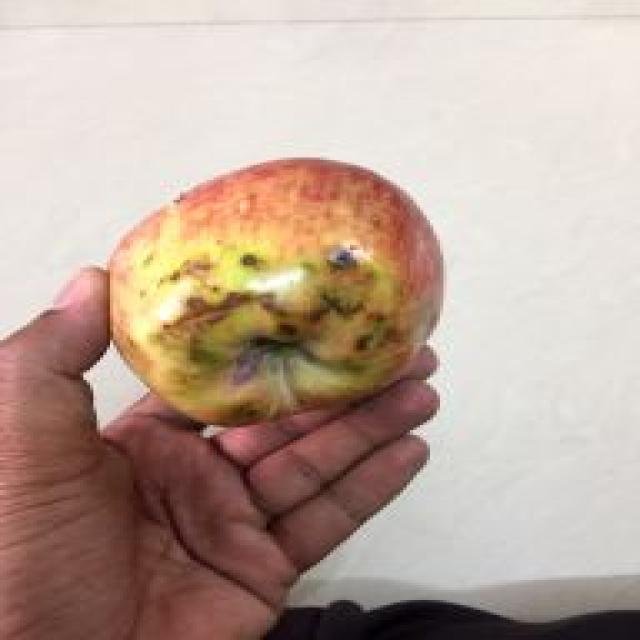Bad_Apple: (108, 159, 442, 424)
